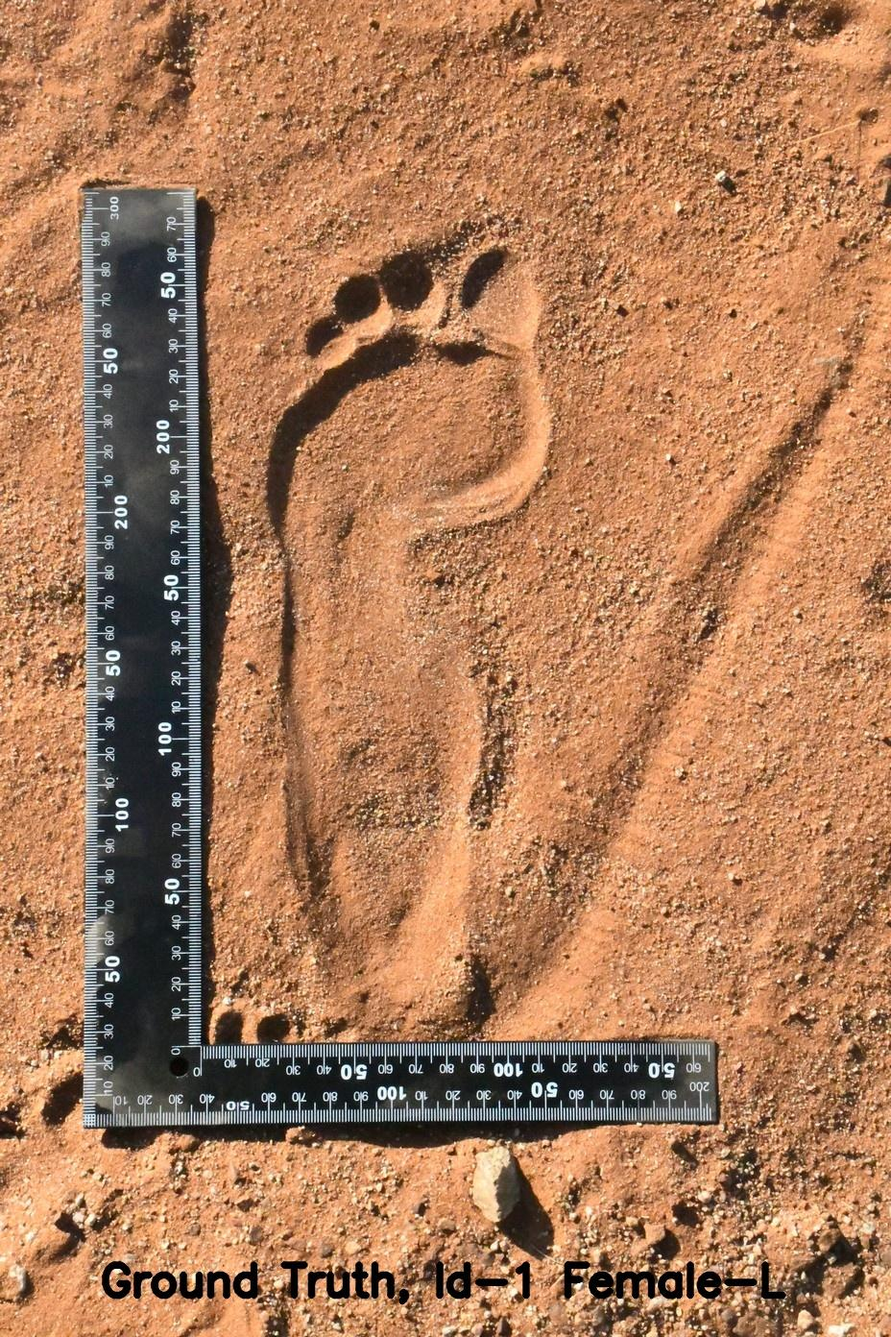human_footprint: (192, 154, 666, 1066)
